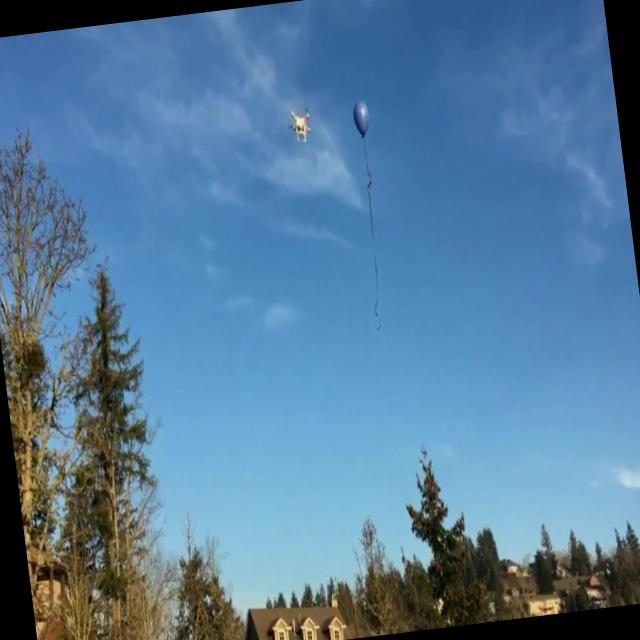drone: (285, 104, 316, 149)
